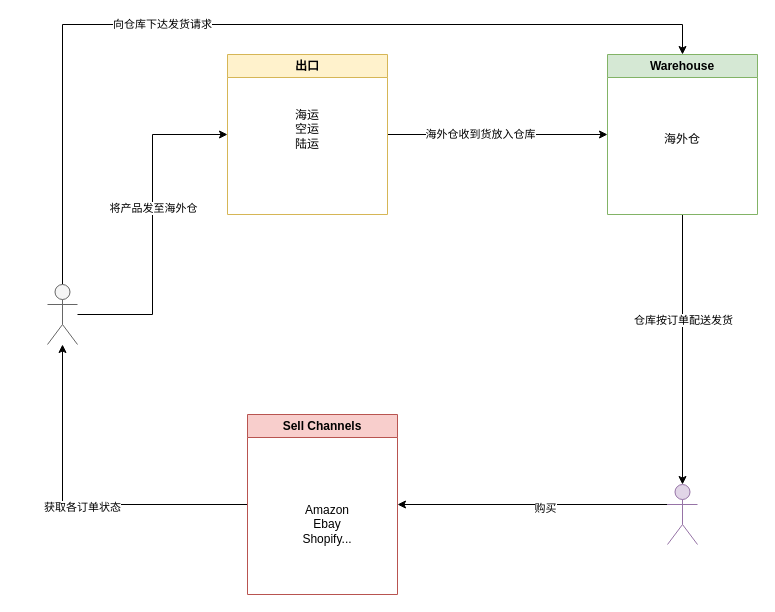
Image size: 775x612. Some labels were removed from this diagram. The centre of each missing label's shape, as x and y in pixels:
"Buyer" goes at (x=682, y=514).
"Customer(Seller)" goes at (x=62, y=314).
